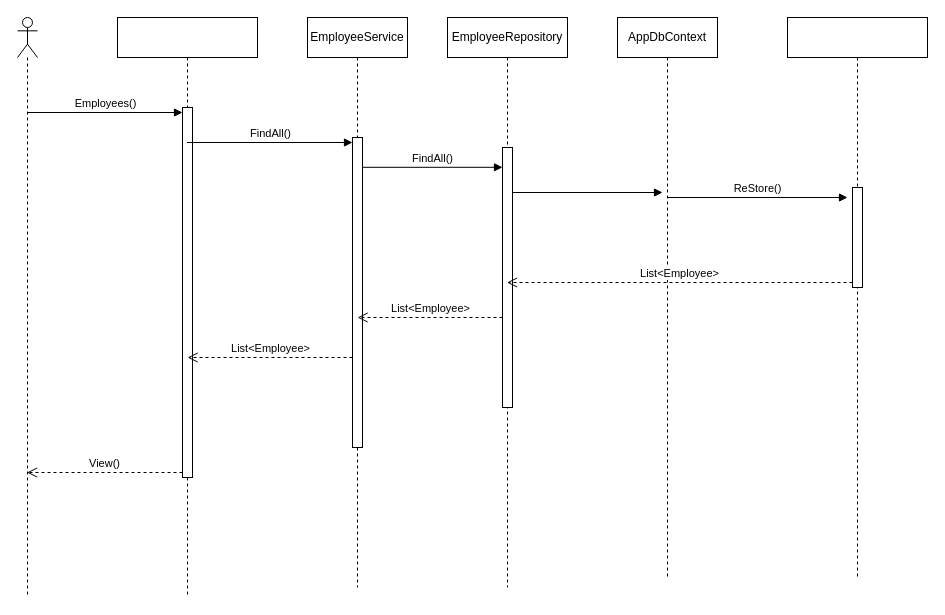
This 945x615 diagram has some shape labels left out. The shapes that lost their labels are listed below. From the top down, each one's box as (x1, y1, x2, y2) in pixels, then its label:
(116, 16, 258, 598): EmployeeListController
(786, 16, 928, 578): EmployeeEntityAdapter
